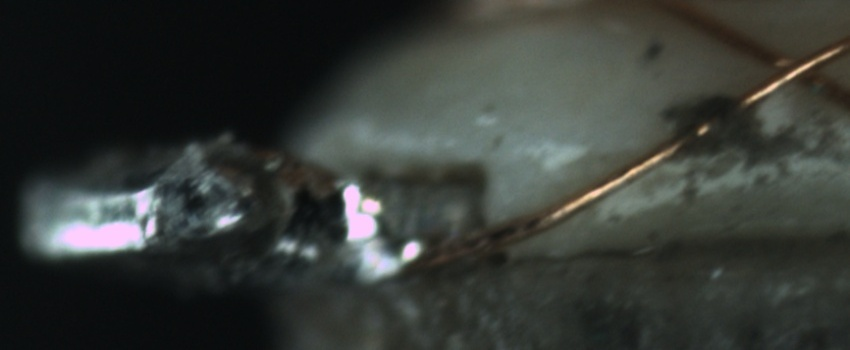CL: (749, 32, 842, 96)
DL: (512, 127, 675, 181)
